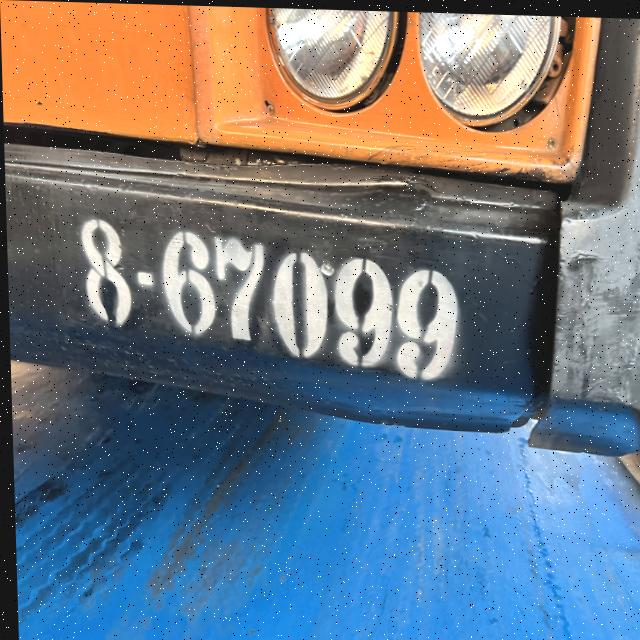BMTA-bus: (0, 0, 640, 457)
